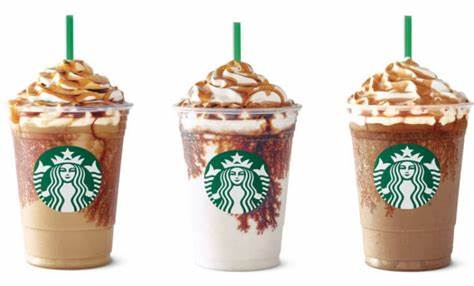starbucks Originale: (367, 135, 453, 219), (27, 137, 110, 219), (200, 145, 282, 221)
